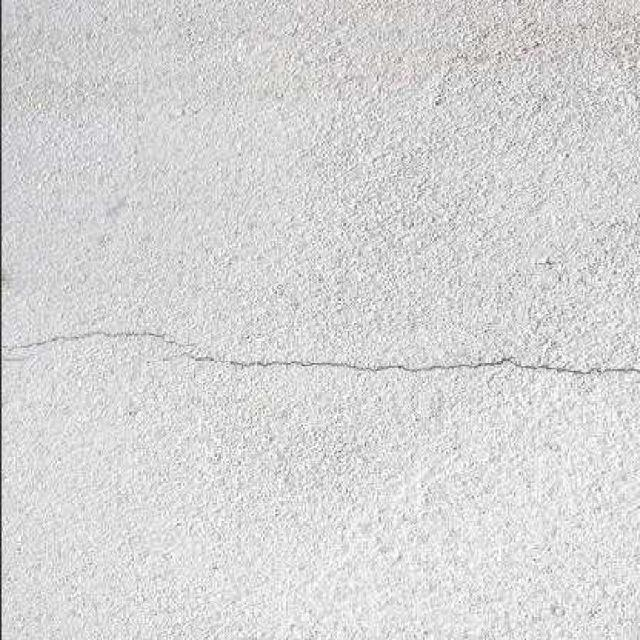D00: (179, 352, 640, 378), (8, 328, 192, 351), (0, 353, 33, 363)
